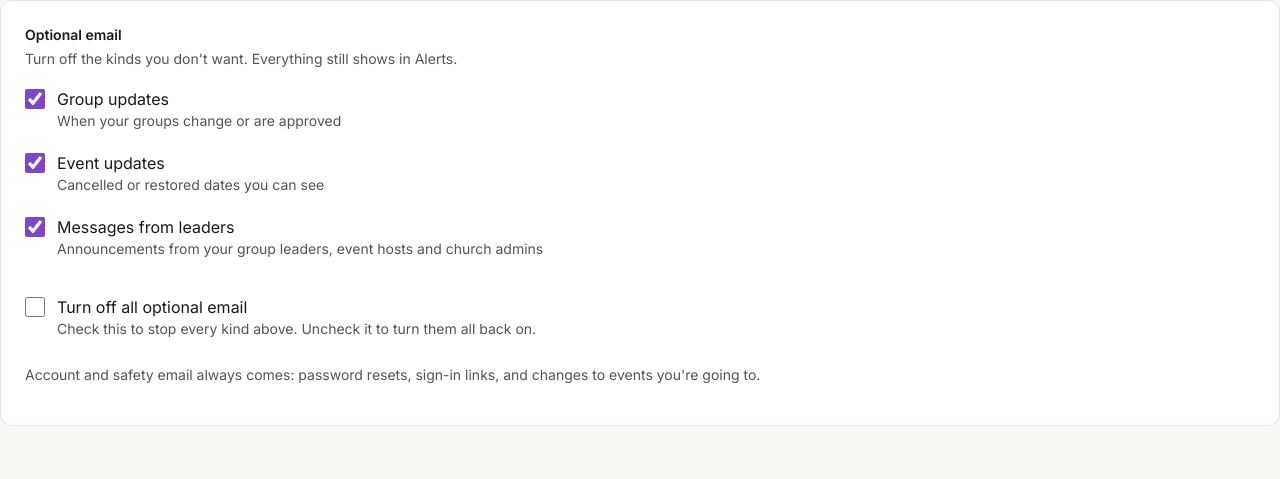
puts the switches back and says what went wrong when saving fails, without server text
The image size is (1280, 479).
Click the checkbox labelled "Group updates When your groups change or are approved".
click(35, 99)  # box [25, 89, 45, 109]
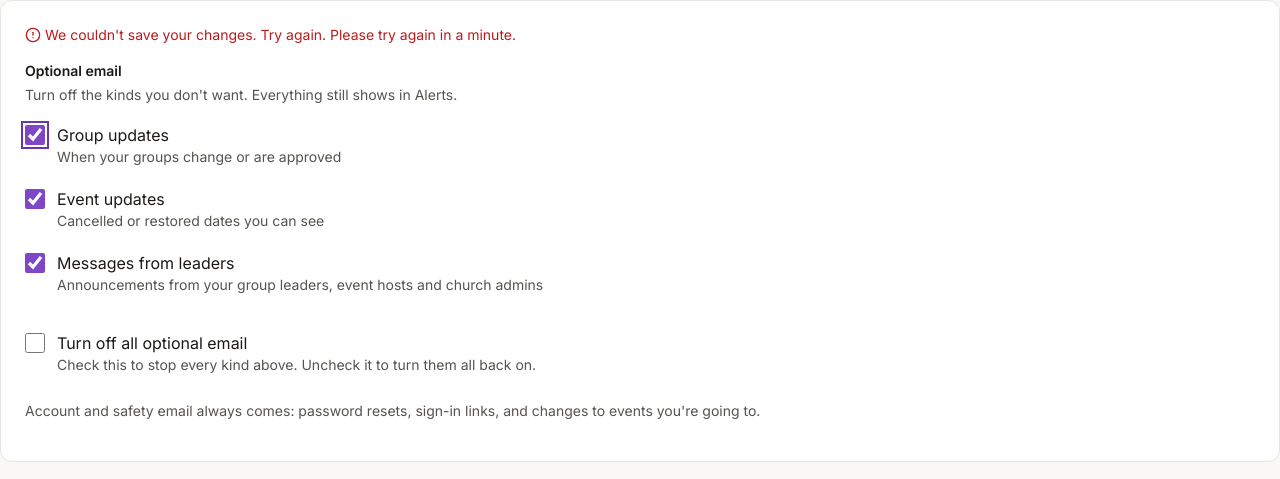
Expected: the checkbox labelled "Group updates When your groups change or are approved" is checked, [25, 125, 45, 145]
Expected: the message shows "We couldn't save your changes. Try again.", [45, 26, 516, 43]
